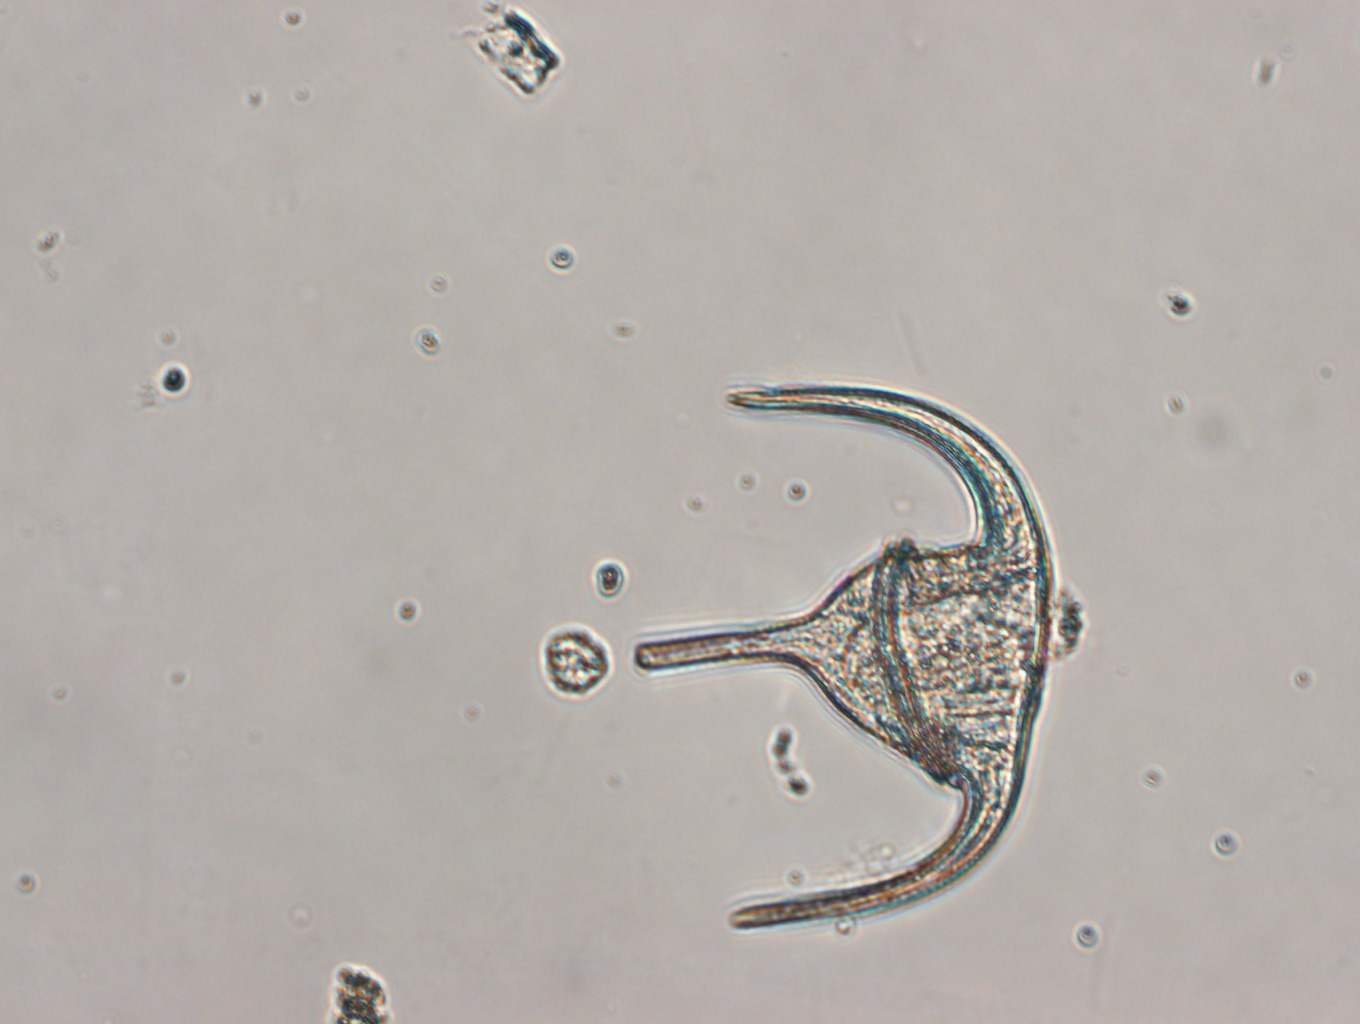ceratium tripos: (630, 384, 1055, 933)
